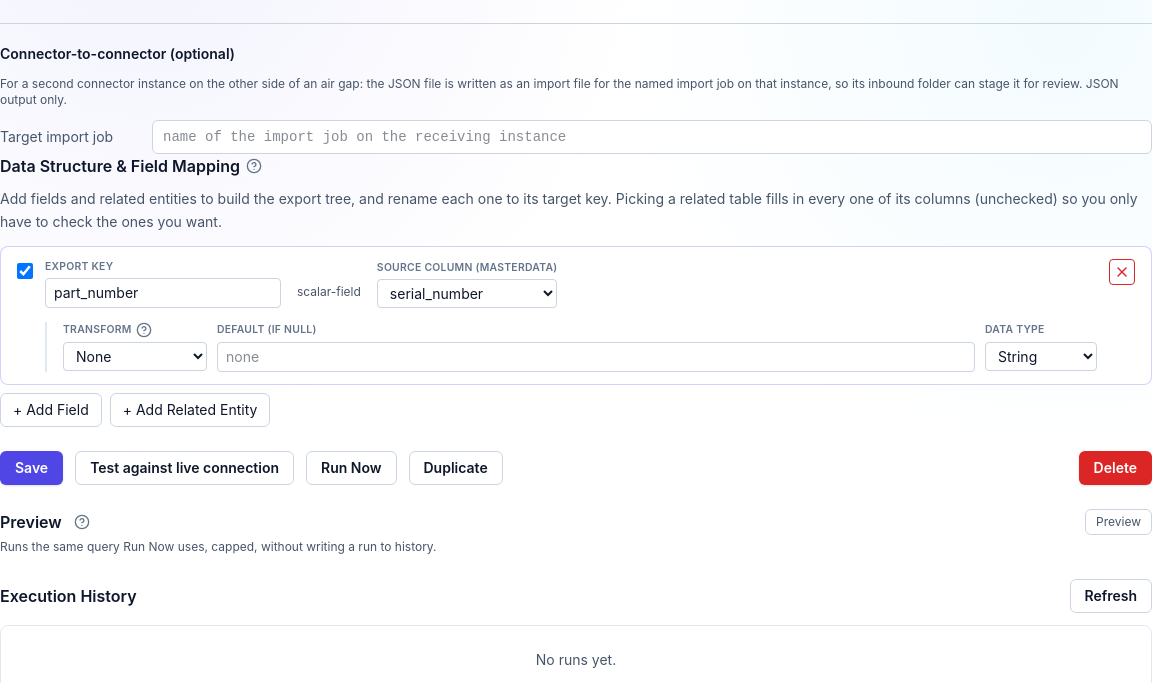
Test: ExportDefinitionEditView › shows the server error message when save fails
(page scrolled)
Click the button "Save" at (32,468), box [0,451,63,485]
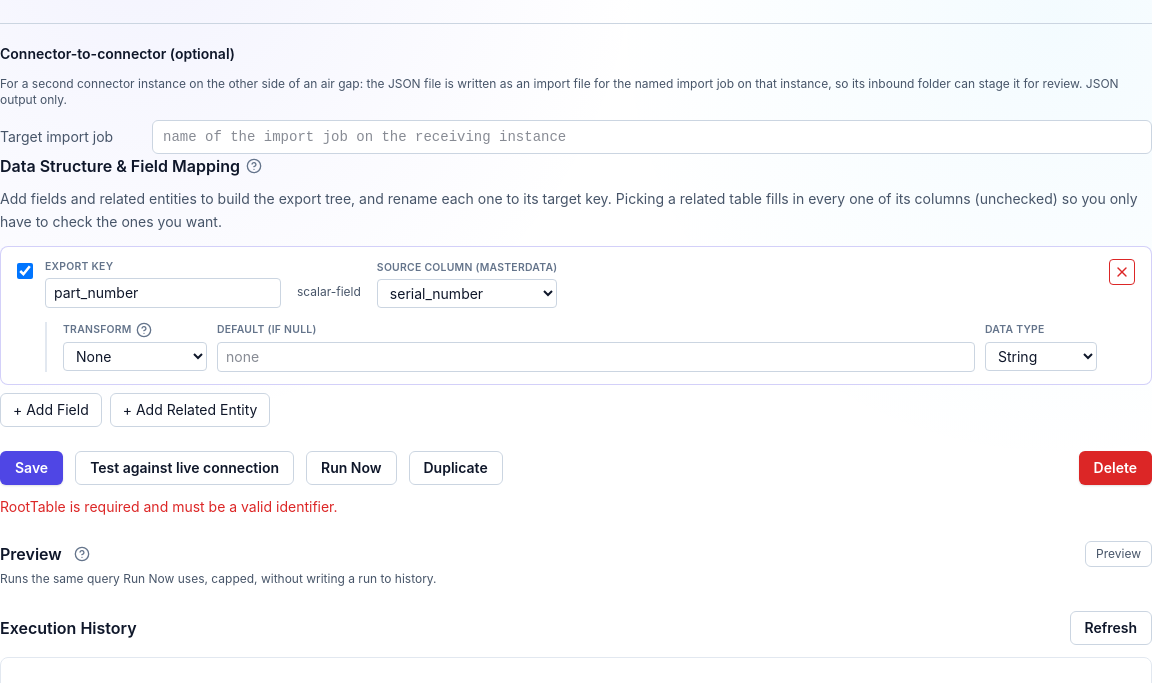
Expected: the text "RootTable is required and must be a valid identifier." is shown, [0,498,338,515]
